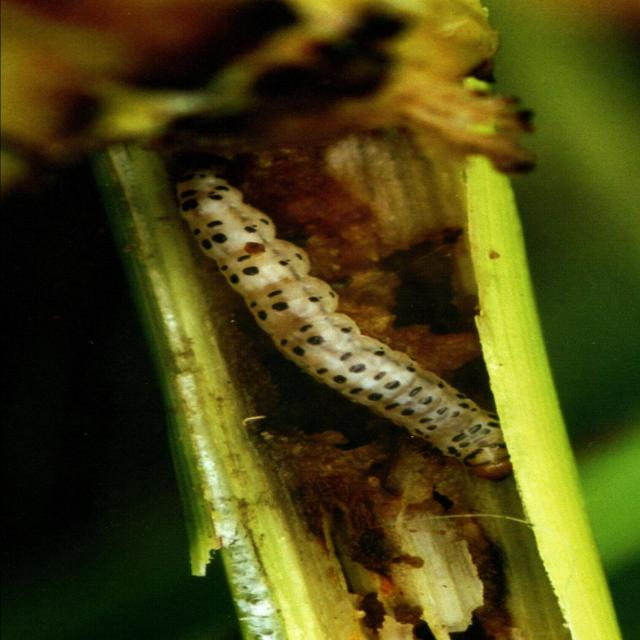peach borer: (170, 163, 504, 507)
